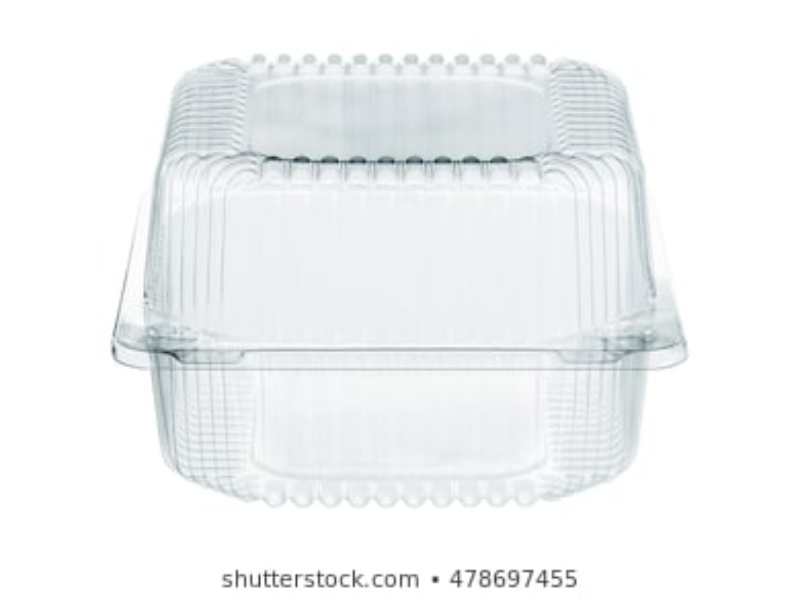plastic-container: (106, 49, 691, 517)
